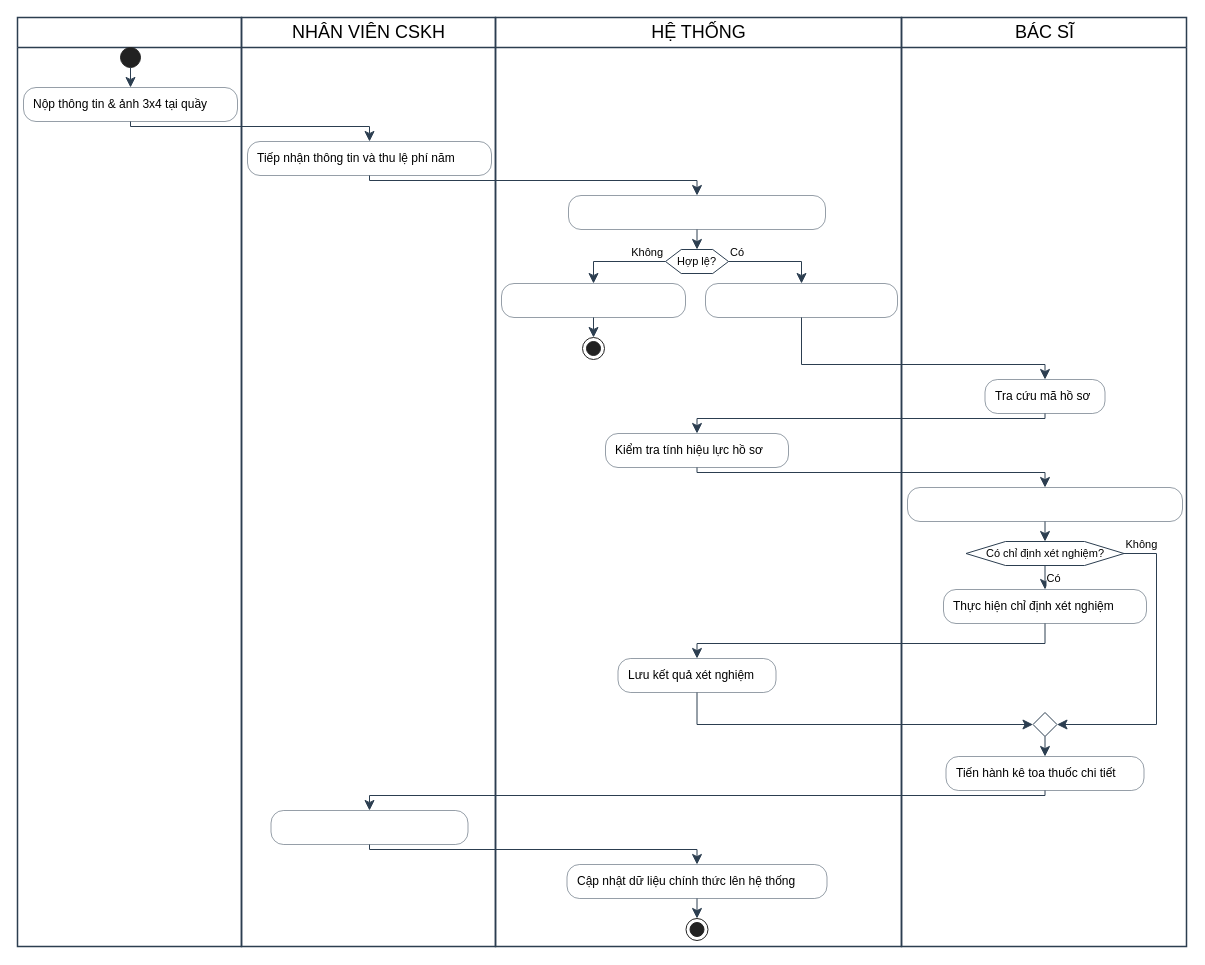
This 1205x965 diagram has some shape labels left out. The box of each missing label's shape, as (x1, y1, x2, y2) in pixels:
BỆNH NHÂN: (16, 16, 242, 947)
Kiểm tra thông tin & trạng thái đóng phí: (568, 195, 825, 229)
Lập phiếu khám & ghi triệu chứng lâm sàng: (907, 487, 1182, 521)
Sinh mã hồ sơ và in trang bìa: (705, 283, 897, 317)
Thông báo từ chối cấp hồ sơ: (501, 283, 685, 317)
Thực hiện thanh toán viện phí: (270, 810, 468, 844)
